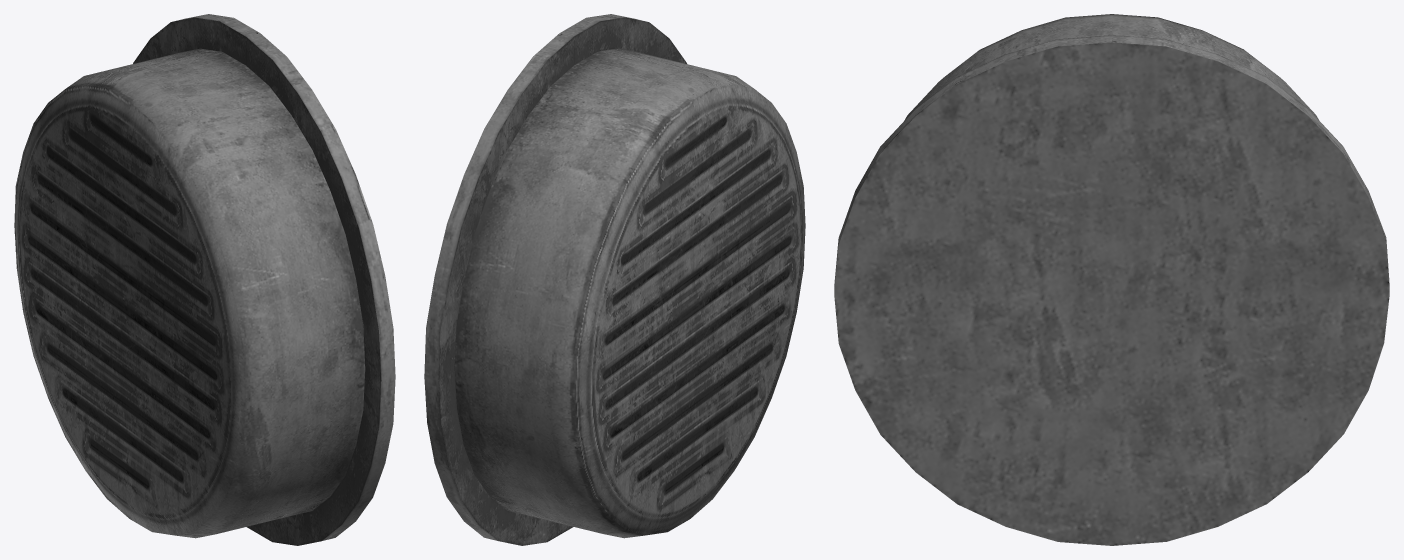
File: SM_AirVent.fbx
3 views of the same model, side by side, from view 1: azimuth 30°, elevation 25°; view 2: azimuth 150°, elevation 25°; view 3: azimuth 270°, elevation 25° (orthographic). The views are drawn at different scales.
Visible parts, largest first — view 1: SM_AirVent_LOD0; view 2: SM_AirVent_LOD0; view 3: SM_AirVent_LOD0.
Part boxes in pixels (<box>): SM_AirVent_LOD0: <box>14,14,395,545</box>; SM_AirVent_LOD0: <box>424,14,805,545</box>; SM_AirVent_LOD0: <box>834,14,1389,545</box>.
Size of the model in its own units: 5 by 17 by 17.
